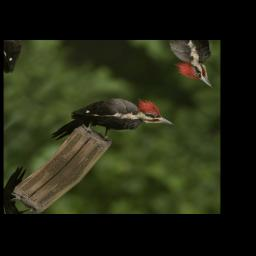Woodpecker: (41, 67, 183, 184)
